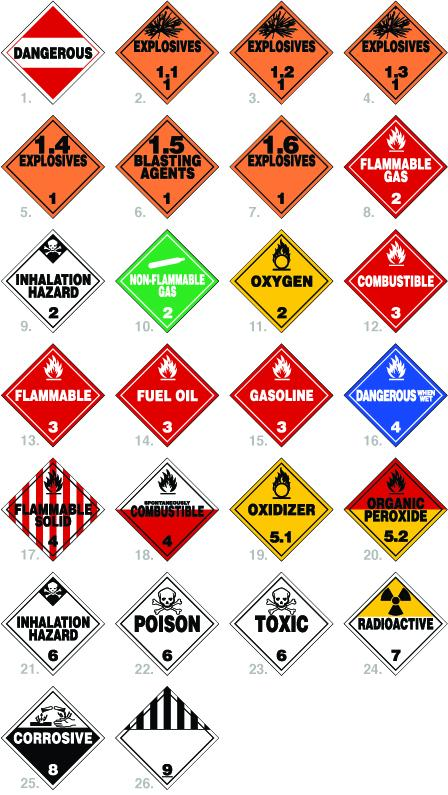corrosive: (3, 687, 104, 793)
dangerous-when-wet: (345, 343, 448, 450)
explosive: (226, 2, 334, 109), (115, 116, 221, 223), (116, 1, 221, 107), (230, 115, 334, 221), (342, 3, 448, 104), (2, 118, 108, 219)
flammable: (231, 345, 335, 450), (120, 345, 220, 452), (2, 345, 104, 447), (346, 116, 444, 219), (346, 232, 448, 330)
flammable-solid: (3, 457, 107, 564)
non-flammable-gas: (116, 229, 220, 334)
organic-peroxide: (348, 459, 447, 563)
oxidizer: (228, 457, 334, 563), (232, 231, 330, 336)
poison: (230, 573, 334, 680), (116, 572, 219, 679), (4, 572, 107, 675), (4, 231, 104, 334)
radioactive: (345, 573, 446, 676)
spontaneously-combustible: (114, 459, 219, 569)
